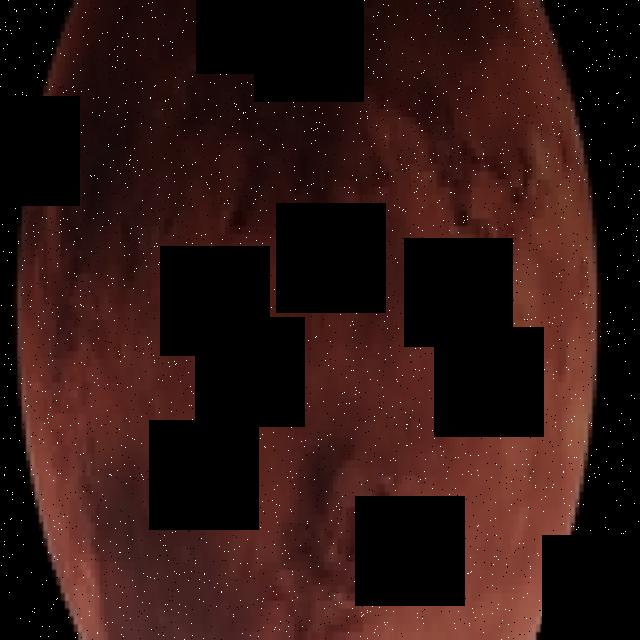Mars: (17, 0, 601, 640)
